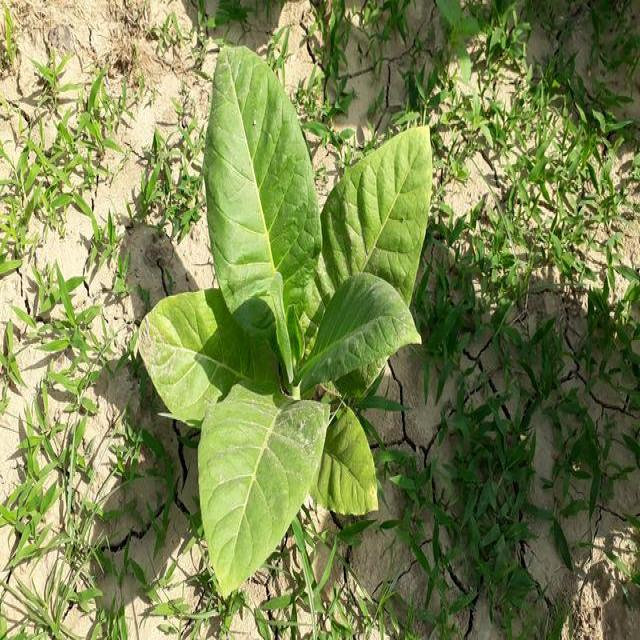crop: (142, 43, 434, 608)
